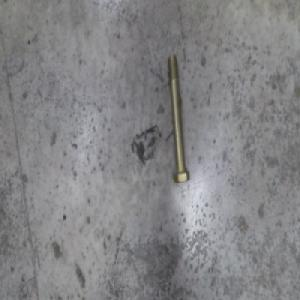Bolt: (165, 47, 191, 176)
